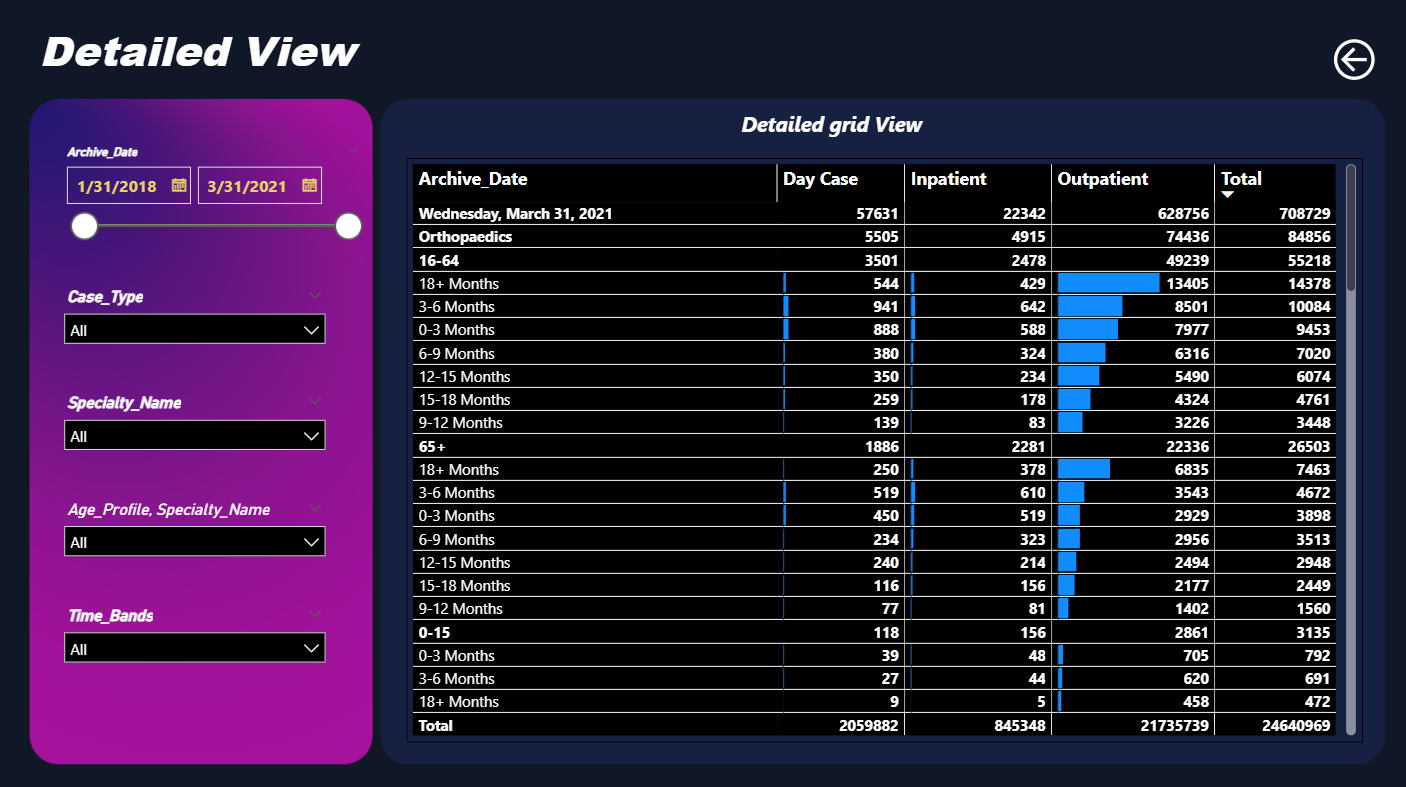

This screenshot's page, from the dashboard's own definition file:
{"tool":"powerbi","page":{"name":"Detail ","canvas":[1280,720],"ordinal":1},"visuals":[{"type":"textbox","box":[32,16,384,64],"z":0},{"type":"slicer","fields":{"Values":["All_Data.Archive_Date"]},"box":[48,128,288,96],"z":1000},{"type":"slicer","fields":{"Values":["All_Data.Case_Type"]},"box":[48,256,256,80],"z":2000},{"type":"slicer","fields":{"Values":["All_Data.Specialty_Name"]},"box":[48,352,256,80],"z":3000},{"type":"slicer","fields":{"Values":["All_Data.Age_Profile","All_Data.Specialty_Name"]},"box":[48,448,256,80],"z":4000},{"type":"slicer","fields":{"Values":["All_Data.Time_Bands"]},"box":[48,544,256,80],"z":5000},{"type":"pivotTable","fields":{"Rows":["All_Data.Archive_Date","All_Data.Specialty_Name","All_Data.Age_Profile","All_Data.Time_Bands"],"Values":["Sum(All_Data.Total)"],"Columns":["All_Data.Case_Type"]},"box":[368,144,864,528],"z":6000},{"type":"textbox","box":[544,96,416,48],"z":7000},{"type":"actionButton","box":[1200,32,64,48],"z":8000}]}

Visuals, with their boxes in screenshot pixels (x1, y1, x2, y2), scaled from the page's 1280x720 canvas onto the 1406x787 screenshot:
textbox: pyautogui.locateOnScreen(35, 17, 457, 87)
slicer - All_Data.Archive_Date: pyautogui.locateOnScreen(53, 140, 369, 245)
slicer - All_Data.Case_Type: pyautogui.locateOnScreen(53, 280, 334, 367)
slicer - All_Data.Specialty_Name: pyautogui.locateOnScreen(53, 385, 334, 472)
slicer - All_Data.Age_Profile x All_Data.Specialty_Name: pyautogui.locateOnScreen(53, 490, 334, 577)
slicer - All_Data.Time_Bands: pyautogui.locateOnScreen(53, 595, 334, 682)
pivotTable - All_Data.Archive_Date x All_Data.Specialty_Name: pyautogui.locateOnScreen(404, 157, 1353, 735)
textbox: pyautogui.locateOnScreen(598, 105, 1054, 157)
actionButton: pyautogui.locateOnScreen(1318, 35, 1388, 87)
